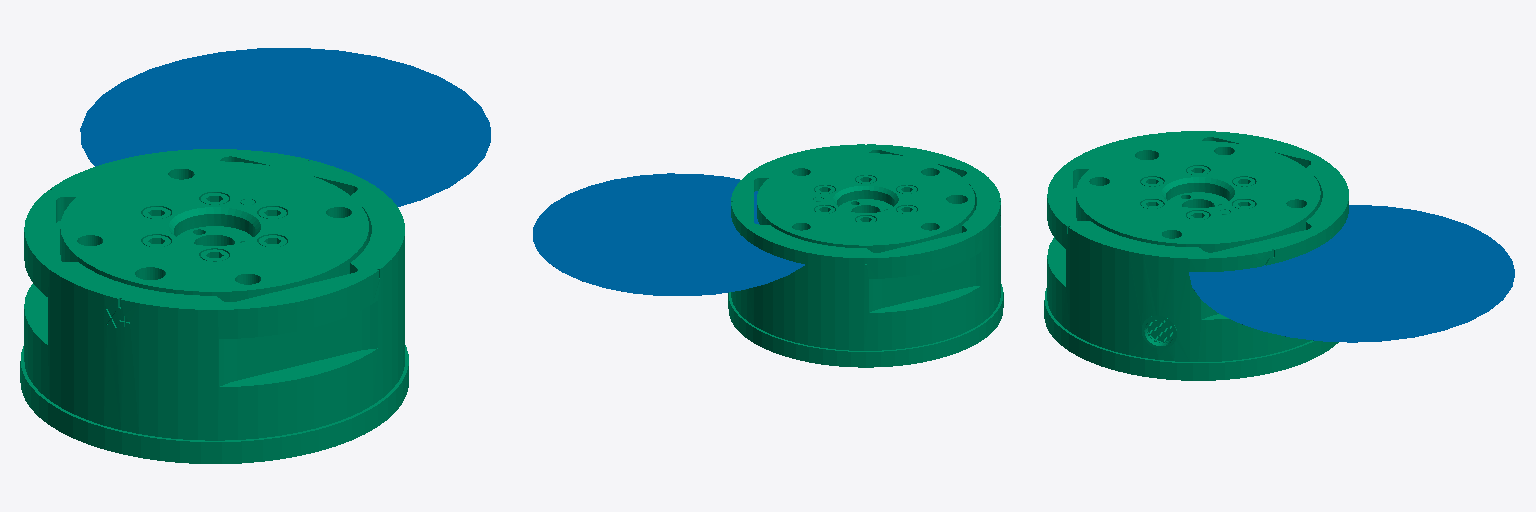
URDF robot description (iiwa14):
<?xml version="1.0" encoding="utf-8"?>
<!-- =================================================================================== -->
<!-- |    This document was autogenerated by xacro from iiwa14.urdf.xacro              | -->
<!-- |    EDITING THIS FILE BY HAND IS NOT RECOMMENDED                                 | -->
<!-- =================================================================================== -->
<robot name="iiwa14">
  <material name="Black">
    <color rgba="0.0 0.0 0.0 1.0"/>
  </material>
  <material name="Blue">
    <color rgba="0.0 0.0 0.8 1.0"/>
  </material>
  <material name="Green">
    <color rgba="0.0 0.8 0.0 1.0"/>
  </material>
  <material name="Grey">
    <color rgba="0.4 0.4 0.4 1.0"/>
  </material>
  <material name="Orange">
    <color rgba="1.0 0.423529411765 0.0392156862745 1.0"/>
  </material>
  <material name="Brown">
    <color rgba="0.870588235294 0.811764705882 0.764705882353 1.0"/>
  </material>
  <material name="Red">
    <color rgba="0.8 0.0 0.0 1.0"/>
  </material>
  <material name="White">
    <color rgba="1.0 1.0 1.0 1.0"/>
  </material>
  <!-- Fix to world just for testing -->
  <link name="iiwa_world">
    <inertial>
      <mass value="0"/>
      <inertia ixx="0.0" ixy="0" ixz="0" iyy="0.0" iyz="0" izz="0.0"/>
    </inertial>
  </link>
  <!-- joint between {parent} and link_0 -->
  <joint name="world_iiwa_joint" type="fixed">
    <origin rpy="0 0 0" xyz="0 0 0"/>
    <parent link="iiwa_world"/>
    <child link="iiwa_link_0"/>
  </joint>
  <link name="iiwa_link_0">
    <inertial>
      <origin rpy="0 0 0" xyz="-0.1 0 0.07"/>
      <mass value="5"/>
      <inertia ixx="0.05" ixy="0" ixz="0" iyy="0.06" iyz="0" izz="0.03"/>
    </inertial>
    <visual>
      <origin rpy="0 0 0" xyz="0 0 0"/>
      <geometry>
        <mesh filename="meshes/iiwa14/visual/link_0.stl"/>
      </geometry>
      <material name="Grey"/>
    </visual>
    <collision>
      <origin rpy="0 0 0" xyz="0 0 0"/>
      <geometry>
        <mesh filename="meshes/iiwa14/collision/link_0.stl"/>
      </geometry>
      <material name="Grey"/>
    </collision>
    <self_collision_checking>
      <origin rpy="0 0 0" xyz="0 0 0"/>
      <geometry>
        <capsule length="0.25" radius="0.15"/>
      </geometry>
    </self_collision_checking>
  </link>
  <!-- joint between link_0 and link_1 -->
  <joint name="iiwa_joint_1" type="revolute">
    <parent link="iiwa_link_0"/>
    <child link="iiwa_link_1"/>
    <origin rpy="0 0 0" xyz="0 0 0.1575"/>
    <axis xyz="0 0 1"/>
    <limit effort="300" lower="-2.96705972839" upper="2.96705972839" velocity="10"/>
    <safety_controller k_position="100" k_velocity="2" soft_lower_limit="-2.93215314335" soft_upper_limit="2.93215314335"/>
    <dynamics damping="0.5"/>
  </joint>
  <link name="iiwa_link_1">
    <inertial>
      <origin rpy="0 0 0" xyz="0 -0.03 0.12"/>
      <mass value="4"/>
      <inertia ixx="0.1" ixy="0" ixz="0" iyy="0.09" iyz="0" izz="0.02"/>
    </inertial>
    <visual>
      <origin rpy="0 0 0" xyz="0 0 0"/>
      <geometry>
        <mesh filename="meshes/iiwa14/visual/link_1.stl"/>
      </geometry>
      <material name="Orange"/>
    </visual>
    <collision>
      <origin rpy="0 0 0" xyz="0 0 0"/>
      <geometry>
        <mesh filename="meshes/iiwa14/collision/link_1.stl"/>
      </geometry>
      <material name="Orange"/>
    </collision>
  </link>
  <!-- joint between link_1 and link_2 -->
  <joint name="iiwa_joint_2" type="revolute">
    <parent link="iiwa_link_1"/>
    <child link="iiwa_link_2"/>
    <origin rpy="1.57079632679   0 3.14159265359" xyz="0 0 0.2025"/>
    <axis xyz="0 0 1"/>
    <limit effort="300" lower="-2.09439510239" upper="2.09439510239" velocity="10"/>
    <safety_controller k_position="100" k_velocity="2" soft_lower_limit="-2.05948851735" soft_upper_limit="2.05948851735"/>
    <dynamics damping="0.5"/>
  </joint>
  <link name="iiwa_link_2">
    <inertial>
      <origin rpy="0 0 0" xyz="0.0003 0.059 0.042"/>
      <mass value="4"/>
      <inertia ixx="0.05" ixy="0" ixz="0" iyy="0.018" iyz="0" izz="0.044"/>
    </inertial>
    <visual>
      <origin rpy="0 0 0" xyz="0 0 0"/>
      <geometry>
        <mesh filename="meshes/iiwa14/visual/link_2.stl"/>
      </geometry>
      <material name="Orange"/>
    </visual>
    <collision>
      <origin rpy="0 0 0" xyz="0 0 0"/>
      <geometry>
        <mesh filename="meshes/iiwa14/collision/link_2.stl"/>
      </geometry>
      <material name="Orange"/>
    </collision>
  </link>
  <!-- joint between link_2 and link_3 -->
  <joint name="iiwa_joint_3" type="revolute">
    <parent link="iiwa_link_2"/>
    <child link="iiwa_link_3"/>
    <origin rpy="1.57079632679 0 3.14159265359" xyz="0 0.2045 0"/>
    <axis xyz="0 0 1"/>
    <limit effort="300" lower="-2.96705972839" upper="2.96705972839" velocity="10"/>
    <safety_controller k_position="100" k_velocity="2" soft_lower_limit="-2.93215314335" soft_upper_limit="2.93215314335"/>
    <dynamics damping="0.5"/>
  </joint>
  <link name="iiwa_link_3">
    <inertial>
      <origin rpy="0 0 0" xyz="0 0.03 0.13"/>
      <mass value="3"/>
      <inertia ixx="0.08" ixy="0" ixz="0" iyy="0.075" iyz="0" izz="0.01"/>
    </inertial>
    <visual>
      <origin rpy="0 0 0" xyz="0 0 0"/>
      <geometry>
        <mesh filename="meshes/iiwa14/visual/link_3.stl"/>
      </geometry>
      <material name="Orange"/>
    </visual>
    <collision>
      <origin rpy="0 0 0" xyz="0 0 0"/>
      <geometry>
        <mesh filename="meshes/iiwa14/collision/link_3.stl"/>
      </geometry>
      <material name="Orange"/>
    </collision>
  </link>
  <!-- joint between link_3 and link_4 -->
  <joint name="iiwa_joint_4" type="revolute">
    <parent link="iiwa_link_3"/>
    <child link="iiwa_link_4"/>
    <origin rpy="1.57079632679 0 0" xyz="0 0 0.2155"/>
    <axis xyz="0 0 1"/>
    <limit effort="300" lower="-2.09439510239" upper="2.09439510239" velocity="10"/>
    <safety_controller k_position="100" k_velocity="2" soft_lower_limit="-2.05948851735" soft_upper_limit="2.05948851735"/>
    <dynamics damping="0.5"/>
  </joint>
  <link name="iiwa_link_4">
    <inertial>
      <origin rpy="0 0 0" xyz="0 0.067 0.034"/>
      <mass value="2.7"/>
      <inertia ixx="0.03" ixy="0" ixz="0" iyy="0.01" iyz="0" izz="0.029"/>
    </inertial>
    <visual>
      <origin rpy="0 0 0" xyz="0 0 0"/>
      <geometry>
        <mesh filename="meshes/iiwa14/visual/link_4.stl"/>
      </geometry>
      <material name="Orange"/>
    </visual>
    <collision>
      <origin rpy="0 0 0" xyz="0 0 0"/>
      <geometry>
        <mesh filename="meshes/iiwa14/collision/link_4.stl"/>
      </geometry>
      <material name="Orange"/>
    </collision>
  </link>
  <!-- joint between link_4 and link_5 -->
  <joint name="iiwa_joint_5" type="revolute">
    <parent link="iiwa_link_4"/>
    <child link="iiwa_link_5"/>
    <origin rpy="-1.57079632679 3.14159265359 0" xyz="0 0.1845 0"/>
    <axis xyz="0 0 1"/>
    <limit effort="300" lower="-2.96705972839" upper="2.96705972839" velocity="10"/>
    <safety_controller k_position="100" k_velocity="2" soft_lower_limit="-2.93215314335" soft_upper_limit="2.93215314335"/>
    <dynamics damping="0.5"/>
  </joint>
  <link name="iiwa_link_5">
    <inertial>
      <origin rpy="0 0 0" xyz="0.0001 0.021 0.076"/>
      <mass value="1.7"/>
      <inertia ixx="0.02" ixy="0" ixz="0" iyy="0.018" iyz="0" izz="0.005"/>
    </inertial>
    <visual>
      <origin rpy="0 0 0" xyz="0 0 0"/>
      <geometry>
        <mesh filename="meshes/iiwa14/visual/link_5.stl"/>
      </geometry>
      <material name="Orange"/>
    </visual>
    <collision>
      <origin rpy="0 0 0" xyz="0 0 0"/>
      <geometry>
        <mesh filename="meshes/iiwa14/collision/link_5.stl"/>
      </geometry>
      <material name="Orange"/>
    </collision>
  </link>
  <!-- joint between link_5 and link_6 -->
  <joint name="iiwa_joint_6" type="revolute">
    <parent link="iiwa_link_5"/>
    <child link="iiwa_link_6"/>
    <origin rpy="1.57079632679 0 0" xyz="0 0 0.2155"/>
    <axis xyz="0 0 1"/>
    <limit effort="300" lower="-2.09439510239" upper="2.09439510239" velocity="10"/>
    <safety_controller k_position="100" k_velocity="2" soft_lower_limit="-2.05948851735" soft_upper_limit="2.05948851735"/>
    <dynamics damping="0.5"/>
  </joint>
  <link name="iiwa_link_6">
    <inertial>
      <origin rpy="0 0 0" xyz="0 0.0006 0.0004"/>
      <mass value="1.8"/>
      <inertia ixx="0.005" ixy="0" ixz="0" iyy="0.0036" iyz="0" izz="0.0047"/>
    </inertial>
    <visual>
      <origin rpy="0 0 0" xyz="0 0 0"/>
      <geometry>
        <mesh filename="meshes/iiwa14/visual/link_6.stl"/>
      </geometry>
      <material name="Orange"/>
    </visual>
    <collision>
      <origin rpy="0 0 0" xyz="0 0 0"/>
      <geometry>
        <mesh filename="meshes/iiwa14/collision/link_6.stl"/>
      </geometry>
      <material name="Orange"/>
    </collision>
  </link>
  <!-- joint between link_6 and link_7 -->
  <joint name="iiwa_joint_7" type="revolute">
    <parent link="iiwa_link_6"/>
    <child link="iiwa_link_7"/>
    <origin rpy="-1.57079632679 3.14159265359 0" xyz="0 0.081 0"/>
    <axis xyz="0 0 1"/>
    <limit effort="300" lower="-3.05432619099" upper="3.05432619099" velocity="10"/>
    <safety_controller k_position="100" k_velocity="2" soft_lower_limit="-3.01941960595" soft_upper_limit="3.01941960595"/>
    <dynamics damping="0.5"/>
  </joint>
  <link name="iiwa_link_7">
    <inertial>
      <origin rpy="0 0 0" xyz="0 0 0.02"/>
      <mass value="0.3"/>
      <inertia ixx="0.001" ixy="0" ixz="0" iyy="0.001" iyz="0" izz="0.001"/>
    </inertial>
    <visual>
      <origin rpy="0 0 0" xyz="0 0 0"/>
      <geometry>
        <mesh filename="meshes/iiwa14/visual/link_7.stl"/>
      </geometry>
      <material name="Grey"/>
    </visual>
    <collision>
      <origin rpy="0 0 0" xyz="0 0 0"/>
      <geometry>
        <mesh filename="meshes/iiwa14/collision/link_7.stl"/>
      </geometry>
      <material name="Grey"/>
    </collision>
  </link>
  <!-- <joint name="iiwa_joint_ee" type="fixed">
    <parent link="iiwa_link_7"/>
    <child link="iiwa_link_ee"/>
    <origin rpy="0 0 0" xyz="0 0 0.045"/>
  </joint>
  <link name="iiwa_link_ee">
    <inertial>
        <mass value="0.000001"/>
        <origin xyz="-0.0000 0.00 0.0"/>
        <inertia ixx="0.0000001" ixy="0.000000" ixz="0.000000" iyy="0.0000001" iyz="0.000000" izz="0.0000001"/>
    </inertial>
    </link> -->
    <joint name="iiwa_joint_8" type="fixed">
        <parent link="iiwa_link_7"/>
        <child link="adaptor_kuka"/>
        <origin rpy="0 0 3.14159265359" xyz="0 0 0.032"/>
    </joint>
    <link name="adaptor_kuka">
        <inertial>
            <mass value="0.1"/>
            <origin xyz="0 0 0"/>
            <inertia ixx="0.01" ixy="0" ixz="0" iyy="0.01" iyz="0" izz="0.01"/>
        </inertial>
        <visual>
            <origin rpy="0 0 0" xyz="0 0 0.0"/>
            <geometry>
                <mesh filename="meshes/iiwa14/visual/adaptor_kuka.stl" scale="0.001 0.001 0.001"/>
            </geometry>
            <material name="Black"/>
        </visual>

        <collision>
            <origin rpy="0 0 0" xyz="0 0 0"/>
            <geometry>
                <mesh filename="meshes/iiwa14/visual/adaptor_kuka.stl" scale="0.001 0.001 0.001"/>
            </geometry>
        </collision>
    </link>
    <joint name="force_torque_sensor_mount" type="fixed">
        <origin rpy="0 0 0" xyz="0 0 0.0453"/>
        <parent link="adaptor_kuka"/>
        <child link="force_torque_sensor"/>
    </joint>
    <link name="force_torque_sensor">
        <inertial>
            <mass value="0.5"/>
            <origin xyz="-0.000007 0.001524 0.027591"/>
            <inertia ixx="0.0333333333333" ixy="0" ixz="0" iyy="0.0333333333333" iyz="0" izz="0.0333333333333"/>
        </inertial>
        <visual>
            <origin rpy="0 0 0" xyz="0 0 0"/>
            <material name="Silver"/>
            <geometry>
                <mesh filename="meshes/iiwa14/visual/force_sensor.stl" scale="0.001 0.001 0.001"/>
            </geometry>
        </visual>

        <collision>
            <origin rpy="0 0 0" xyz="0 0 -0.0333"/>
            <geometry>
                <cylinder length="0.0333" radius="0.04"/>
            </geometry>
        </collision>
    </link>
    <joint name="end_effector_joint" type="fixed">
        <origin rpy="0 0 0.0" xyz="0 0 0.02"/>
        <parent link="force_torque_sensor"/>
        <child link="end_effector"/>
    </joint>
    <link name="end_effector">
        <inertial>
            <mass value="1"/>
            <origin xyz="-0.000007 0.001524 0.027591"/>
            <inertia ixx="0.00409836" ixy="0.000000" ixz="0.000000" iyy="0.00061475" iyz="0.000000" izz="0.00409836"/>
        </inertial>
        <visual>
            <origin rpy="0 0 0" xyz="0 0 0"/>
            <material name="Black"/>
            <geometry>
                <mesh filename="meshes/iiwa14/visual/adaptor_endeffector.stl" scale="0.001 0.001 0.001"/>
            </geometry>
            <material name="Black"/>
        </visual>
        <collision>
            <geometry>
                <mesh filename="meshes/iiwa14/visual/adaptor_endeffector.stl" scale="0.001 0.001 0.001"/>
            </geometry>
        </collision>
    </link>
    <joint name="end_effector_joint_sponge" type="fixed">
        <origin rpy="0 0 0.0" xyz="0 0 0.015"/>
        <parent link="end_effector"/>
        <child link="end_effector_sponge"/>
    </joint>
    <link name="end_effector_sponge">
        <inertial>
            <mass value="1"/>
            <origin xyz="-0.000007 0.001524 0.027591"/>
            <inertia ixx="0.00409836" ixy="0.000000" ixz="0.000000" iyy="0.00061475" iyz="0.000000" izz="0.00409836"/>
        </inertial>
        <visual>
            <origin rpy="0 0 0" xyz="0 0 -0.006"/>
            <geometry>
                <cylinder length="0.00001" radius="0.04"/>
            </geometry>
            <material name="Silver"/>
        </visual>
        <collision>
            <origin rpy="0 0 0" xyz="0 0 -0.006"/>
            <geometry>
                <cylinder length="0.00001" radius="0.04"/>
            </geometry>
        </collision>
    </link>
  <!-- Enable the Joint Feedback -->
  <gazebo reference="iiwa_joint_7">
    <provideFeedback>true</provideFeedback>
  </gazebo>
  <!-- The ft_sensor plugin -->
  <gazebo>
    <plugin filename="libgazebo_ros_ft_sensor.so" name="ft_sensor">
      <updateRate>50.0</updateRate>
      <topicName>/iiwa/state/CartesianWrench</topicName>
      <jointName>iiwa_joint_7</jointName>
    </plugin>
  </gazebo>
  <!-- Load Gazebo lib and set the robot namespace -->
  <gazebo>
    <plugin filename="libgazebo_ros_control.so" name="gazebo_ros_control">
      <robotNamespace>/iiwa</robotNamespace>
    </plugin>
  </gazebo>
  <!-- Link0 -->
  <gazebo reference="iiwa_link_0">
    <material>Gazebo/Grey</material>
    <mu1>0.2</mu1>
    <mu2>0.2</mu2>
  </gazebo>
  <!-- Link1 -->
  <gazebo reference="iiwa_link_1">
    <material>Gazebo/Orange</material>
    <mu1>0.2</mu1>
    <mu2>0.2</mu2>
  </gazebo>
  <!-- Link2 -->
  <gazebo reference="iiwa_link_2">
    <material>Gazebo/Orange</material>
    <mu1>0.2</mu1>
    <mu2>0.2</mu2>
  </gazebo>
  <!-- Link3 -->
  <gazebo reference="iiwa_link_3">
    <material>Gazebo/Orange</material>
    <mu1>0.2</mu1>
    <mu2>0.2</mu2>
  </gazebo>
  <!-- Link4 -->
  <gazebo reference="iiwa_link_4">
    <material>Gazebo/Orange</material>
    <mu1>0.2</mu1>
    <mu2>0.2</mu2>
  </gazebo>
  <!-- Link5 -->
  <gazebo reference="iiwa_link_5">
    <material>Gazebo/Orange</material>
    <mu1>0.2</mu1>
    <mu2>0.2</mu2>
  </gazebo>
  <!-- Link6 -->
  <gazebo reference="iiwa_link_6">
    <material>Gazebo/Orange</material>
    <mu1>0.2</mu1>
    <mu2>0.2</mu2>
  </gazebo>
  <!-- Link7 -->
  <gazebo reference="iiwa_link_7">
    <material>Gazebo/Grey</material>
    <mu1>0.2</mu1>
    <mu2>0.2</mu2>
  </gazebo>
  <transmission name="iiwa_tran_1">
    <robotNamespace>/iiwa</robotNamespace>
    <type>transmission_interface/SimpleTransmission</type>
    <joint name="iiwa_joint_1">
      <hardwareInterface>hardware_interface/PositionJointInterface</hardwareInterface>
    </joint>
    <actuator name="iiwa_motor_1">
      <hardwareInterface>hardware_interface/PositionJointInterface</hardwareInterface>
      <mechanicalReduction>1</mechanicalReduction>
    </actuator>
  </transmission>
  <transmission name="iiwa_tran_2">
    <robotNamespace>/iiwa</robotNamespace>
    <type>transmission_interface/SimpleTransmission</type>
    <joint name="iiwa_joint_2">
      <hardwareInterface>hardware_interface/PositionJointInterface</hardwareInterface>
    </joint>
    <actuator name="iiwa_motor_2">
      <hardwareInterface>hardware_interface/PositionJointInterface</hardwareInterface>
      <mechanicalReduction>1</mechanicalReduction>
    </actuator>
  </transmission>
  <transmission name="iiwa_tran_3">
    <robotNamespace>/iiwa</robotNamespace>
    <type>transmission_interface/SimpleTransmission</type>
    <joint name="iiwa_joint_3">
      <hardwareInterface>hardware_interface/PositionJointInterface</hardwareInterface>
    </joint>
    <actuator name="iiwa_motor_3">
      <hardwareInterface>hardware_interface/PositionJointInterface</hardwareInterface>
      <mechanicalReduction>1</mechanicalReduction>
    </actuator>
  </transmission>
  <transmission name="iiwa_tran_4">
    <robotNamespace>/iiwa</robotNamespace>
    <type>transmission_interface/SimpleTransmission</type>
    <joint name="iiwa_joint_4">
      <hardwareInterface>hardware_interface/PositionJointInterface</hardwareInterface>
    </joint>
    <actuator name="iiwa_motor_4">
      <hardwareInterface>hardware_interface/PositionJointInterface</hardwareInterface>
      <mechanicalReduction>1</mechanicalReduction>
    </actuator>
  </transmission>
  <transmission name="iiwa_tran_5">
    <robotNamespace>/iiwa</robotNamespace>
    <type>transmission_interface/SimpleTransmission</type>
    <joint name="iiwa_joint_5">
      <hardwareInterface>hardware_interface/PositionJointInterface</hardwareInterface>
    </joint>
    <actuator name="iiwa_motor_5">
      <hardwareInterface>hardware_interface/PositionJointInterface</hardwareInterface>
      <mechanicalReduction>1</mechanicalReduction>
    </actuator>
  </transmission>
  <transmission name="iiwa_tran_6">
    <robotNamespace>/iiwa</robotNamespace>
    <type>transmission_interface/SimpleTransmission</type>
    <joint name="iiwa_joint_6">
      <hardwareInterface>hardware_interface/PositionJointInterface</hardwareInterface>
    </joint>
    <actuator name="iiwa_motor_6">
      <hardwareInterface>hardware_interface/PositionJointInterface</hardwareInterface>
      <mechanicalReduction>1</mechanicalReduction>
    </actuator>
  </transmission>
  <transmission name="iiwa_tran_7">
    <robotNamespace>/iiwa</robotNamespace>
    <type>transmission_interface/SimpleTransmission</type>
    <joint name="iiwa_joint_7">
      <hardwareInterface>hardware_interface/PositionJointInterface</hardwareInterface>
    </joint>
    <actuator name="iiwa_motor_7">
      <hardwareInterface>hardware_interface/PositionJointInterface</hardwareInterface>
      <mechanicalReduction>1</mechanicalReduction>
    </actuator>
  </transmission>
</robot>

--- Facts derived from the render (not from the file) ---
3 views of the same robot in one strip: view 1: azimuth 30°, elevation 25°; view 2: azimuth 150°, elevation 25°; view 3: azimuth 270°, elevation 25° (orthographic).
Model iiwa14 with 13 links and 12 joints (7 revolute, 5 fixed), rooted at iiwa_world, posed every joint at zero.
Links seen in each view (by area): view 1: force_torque_sensor, end_effector_sponge; view 2: force_torque_sensor, end_effector_sponge; view 3: force_torque_sensor, end_effector_sponge.
Link boxes in pixels (left/top/right/bottom): force_torque_sensor: left=20, top=149, right=408, bottom=463; end_effector_sponge: left=80, top=48, right=490, bottom=206; force_torque_sensor: left=728, top=144, right=1003, bottom=367; end_effector_sponge: left=533, top=173, right=804, bottom=295; force_torque_sensor: left=1044, top=131, right=1348, bottom=380; end_effector_sponge: left=1189, top=205, right=1514, bottom=342.
Size in the robot's own frame: 0.1154 by 0.1154 by 0.0333 metres.
1 mesh visuals loaded from 11 distinct referenced files (1 binary STL); not drawn: 10 (reference not matched to a file when rendering).